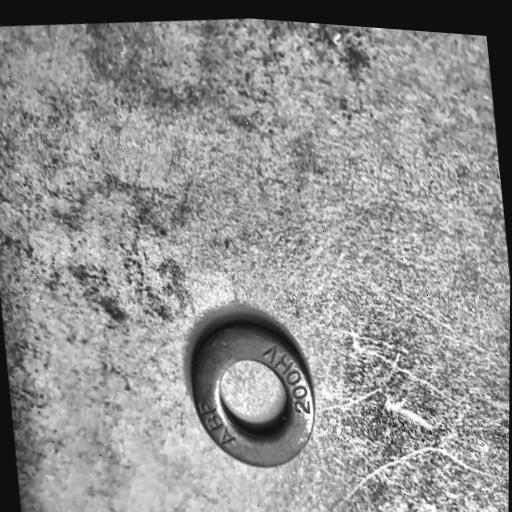Washer: (184, 305, 316, 469)
